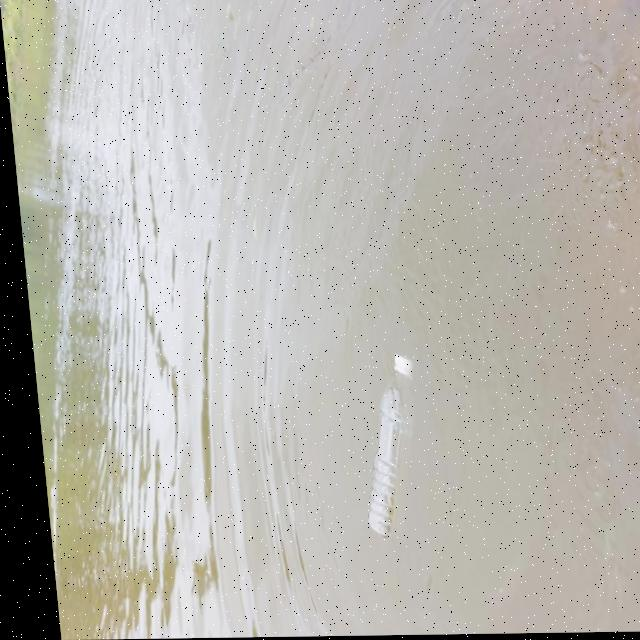waterbottle: (341, 346, 420, 535)
